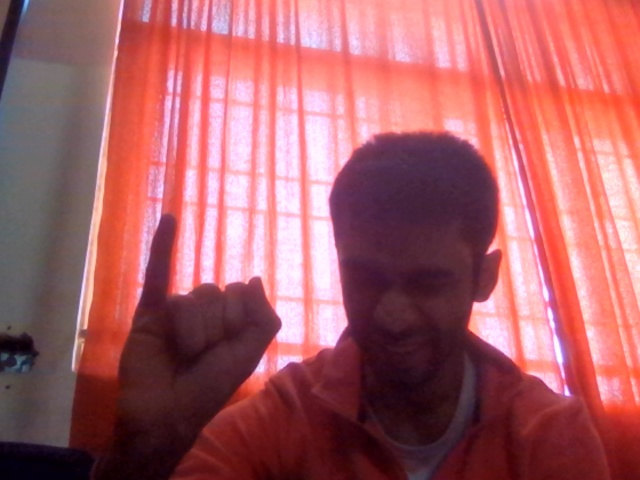I: (90, 194, 321, 471)
